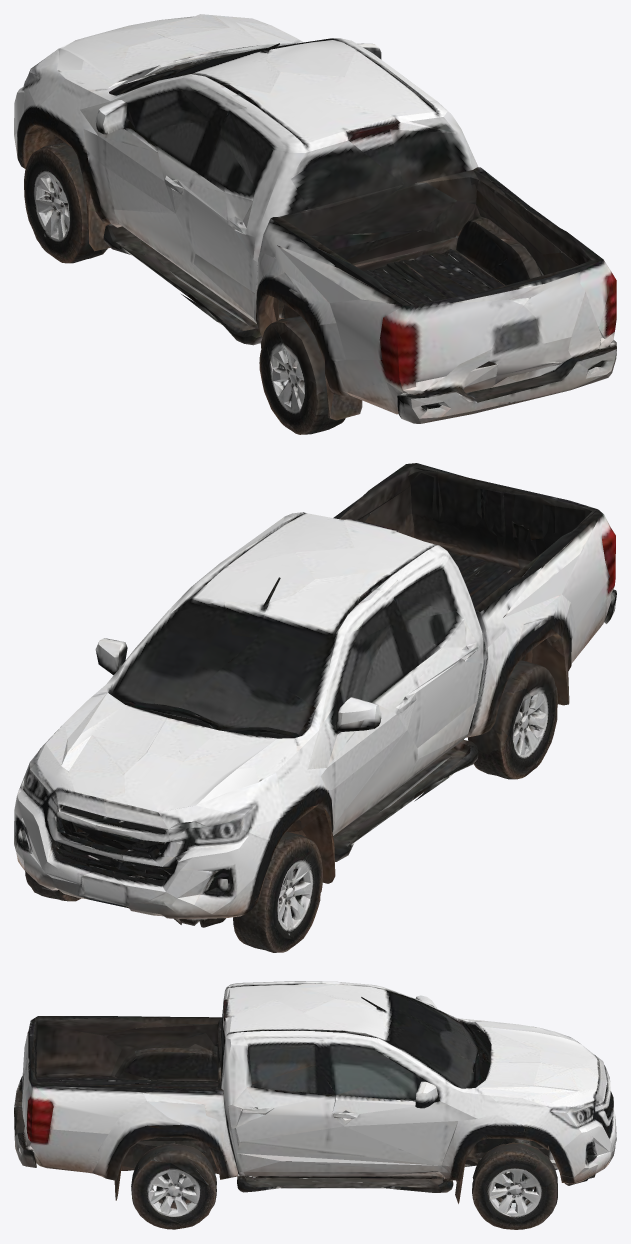
The model's file is e4truck.glb.
3 renders of one model, top to bottom at view 1: azimuth 30°, elevation 25°; view 2: azimuth 150°, elevation 25°; view 3: azimuth 270°, elevation 25°, orthographic. The views are drawn at different scales.
Parts seen in each view (by area): view 1: output_unwrapped; view 2: output_unwrapped; view 3: output_unwrapped.
Boxes of the visible parts, bbox=[...] form: output_unwrapped: bbox=[14, 14, 616, 434]; output_unwrapped: bbox=[14, 463, 616, 952]; output_unwrapped: bbox=[14, 981, 616, 1229].
Size of the model in its own units: 2.08 by 1.86 by 5.3.
Materials: 1 (1 with a texture image).
